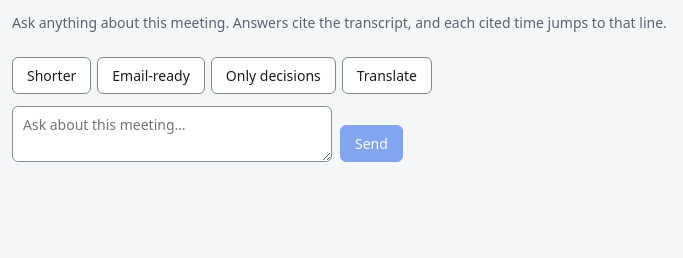
Test: AskAiTab translate errors › keeps the language when the translation fails to send
The image size is (683, 258).
Click the button "Translate" at coordinates (387, 76), box 342,57 -> 432,94
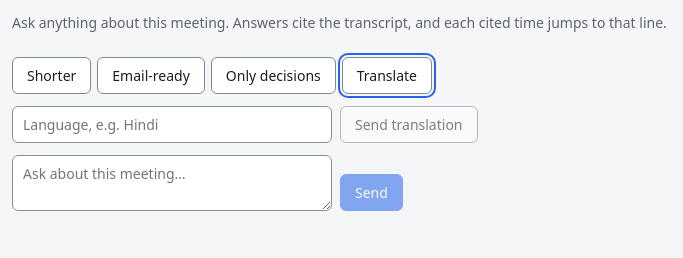
Type "Spanish" into the field named "Translate into which language" at coordinates (172, 124), box 12,106 -> 332,143
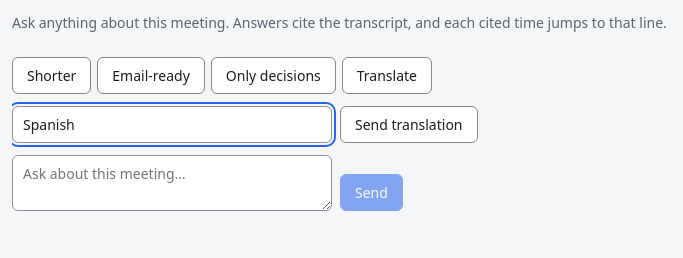
Click the button "Send translation" at coordinates (409, 124), box 340,106 -> 478,143
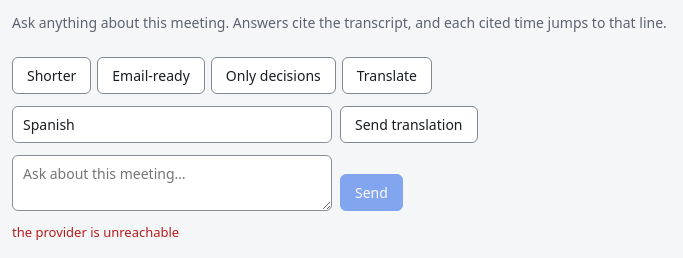
Result: the text "the provider is unreachable" is shown at 12,223 -> 179,241
